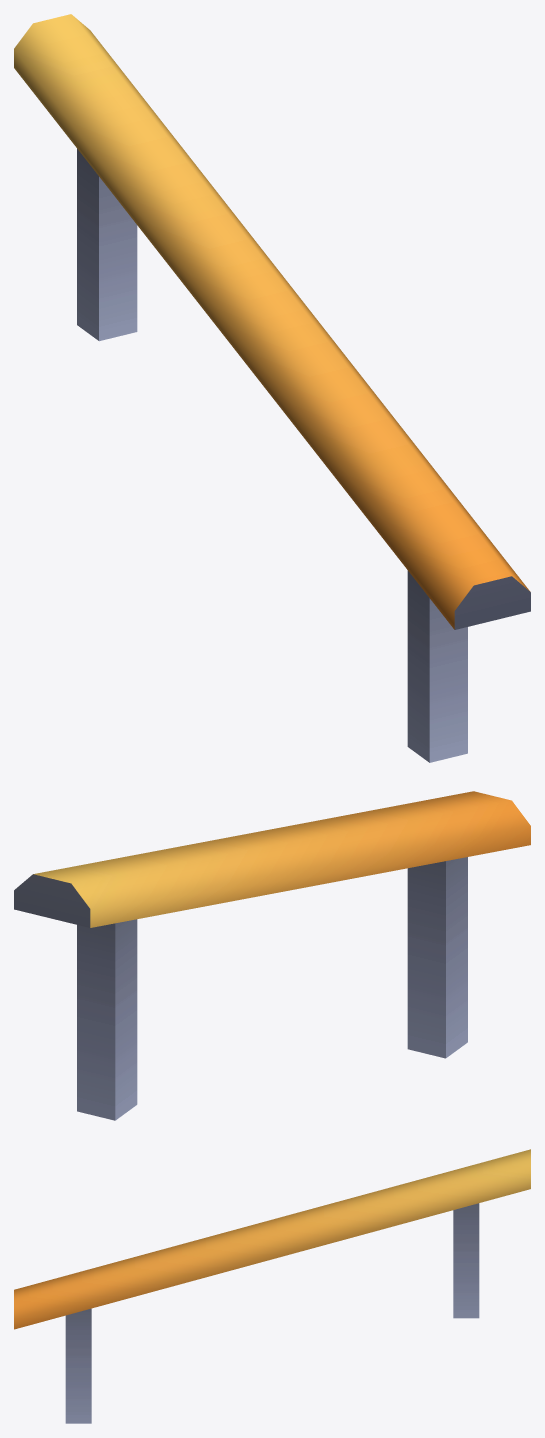
Rendered from stairs-handrail-single.glb.
The picture shows the model from 3 angles, top to bottom: view 1: azimuth 30°, elevation 25°; view 2: azimuth 150°, elevation 25°; view 3: azimuth 270°, elevation 25°; orthographic projection. The views are drawn at different scales.
Visible parts, largest first — view 1: stairs-handrail-single; view 2: stairs-handrail-single; view 3: stairs-handrail-single.
Boxes of the visible parts, x1,y1,x2,y2 form: stairs-handrail-single: [14, 14, 530, 762]; stairs-handrail-single: [14, 791, 530, 1120]; stairs-handrail-single: [14, 1149, 530, 1423].
Size of the model in its own units: 0.1 by 0.5625 by 1.
1 material, 1 textured.
